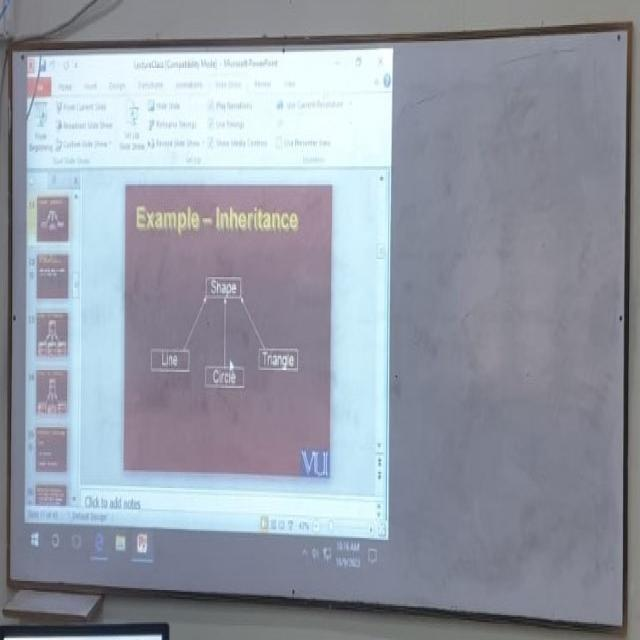Slide: (24, 44, 393, 579)
White-board: (9, 29, 633, 627)
